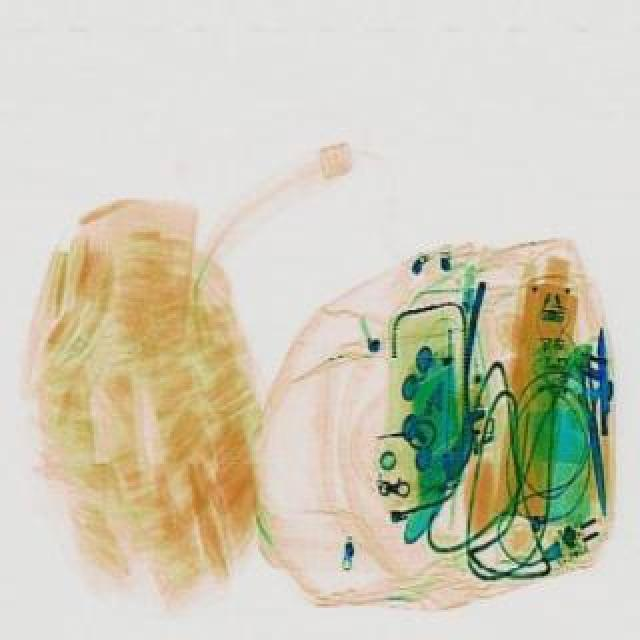knife: (580, 370, 604, 520), (594, 328, 610, 438)
